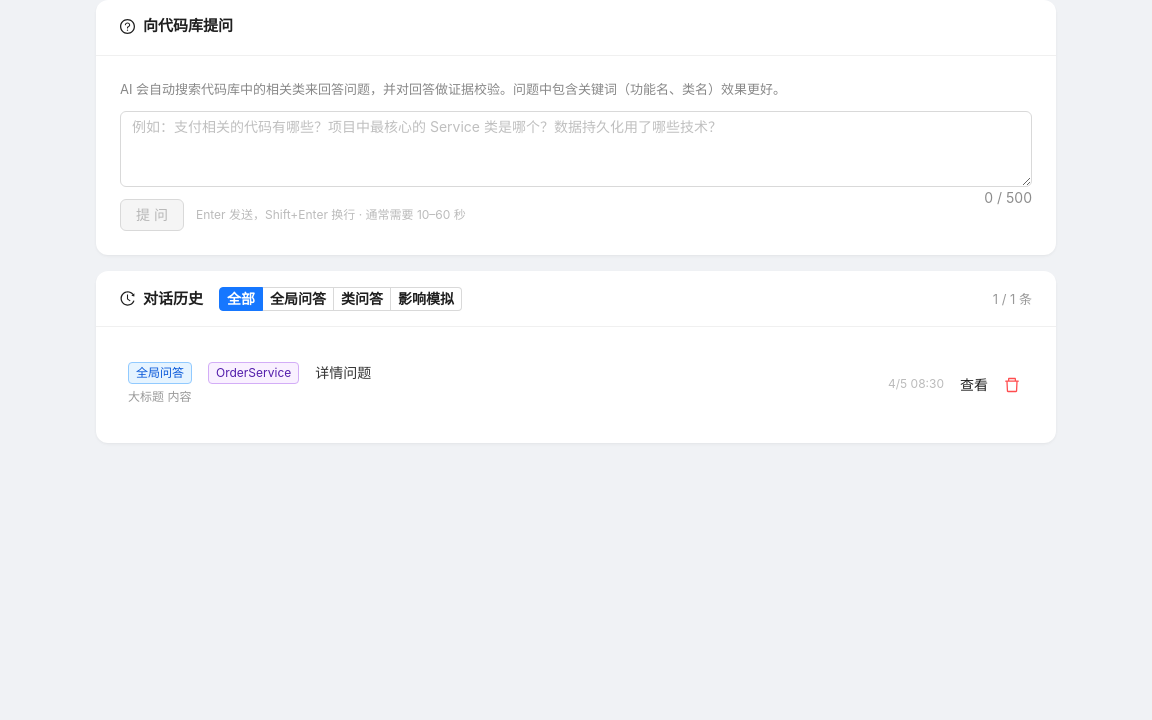
Test: ProjectInsights › openHistory_whenItemMainClicked_shouldOpenDetailModalWithMarkdown
Click the element with class "history-item-main". click: (250,383)
box: top-left (128, 362), bottom-right (371, 404)
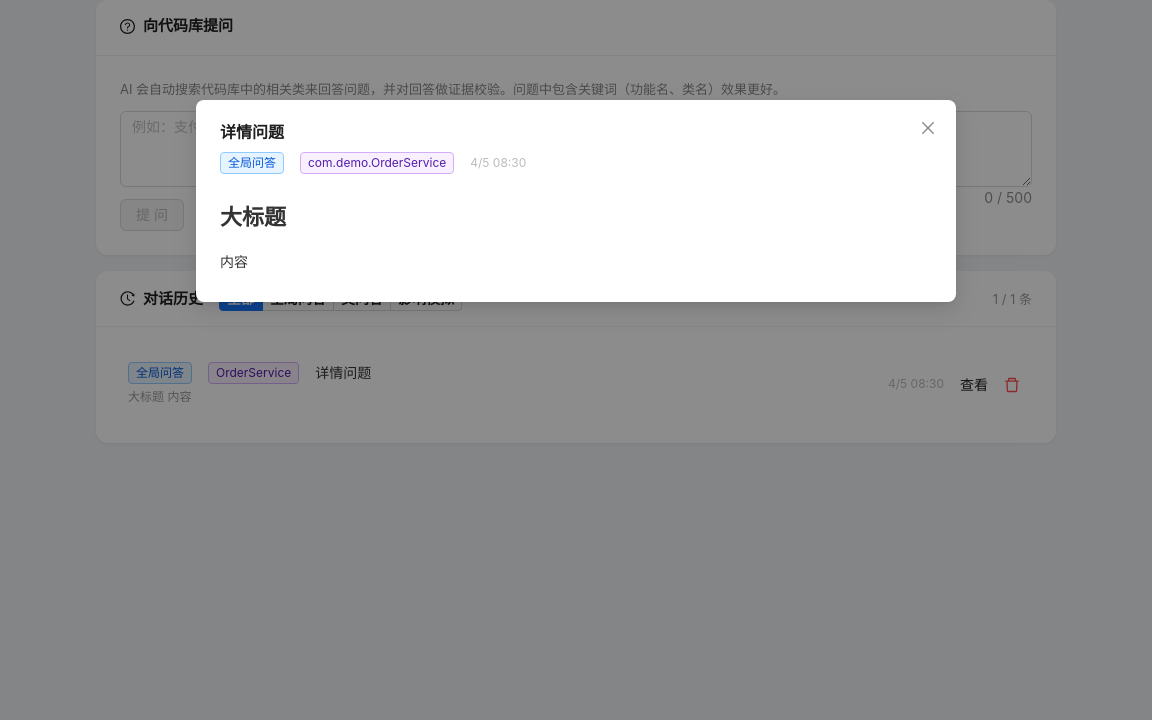
Check: the element with class "history-detail" is shown, box top-left (220, 152), bottom-right (526, 270)
Check: the element with class "history-detail" shows "内容", box top-left (220, 253), bottom-right (248, 270)
Check: the element with class "history-detail" shows "com.demo.OrderService", box top-left (308, 155), bottom-right (446, 170)
